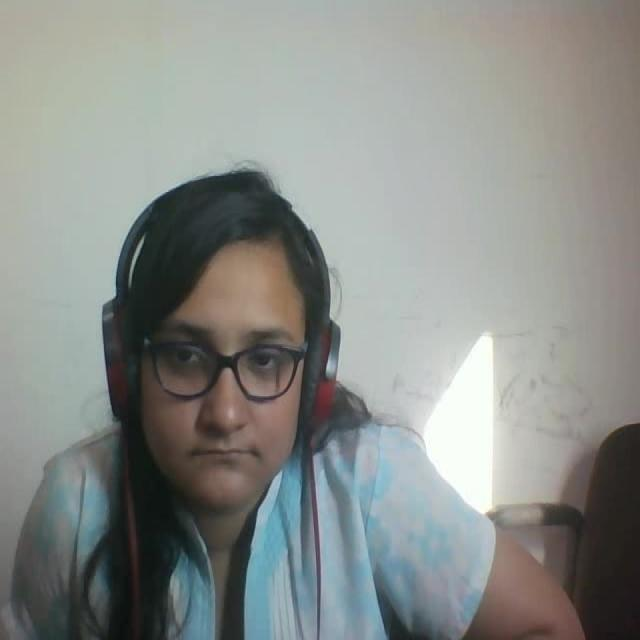Bored: (91, 146, 366, 532)
